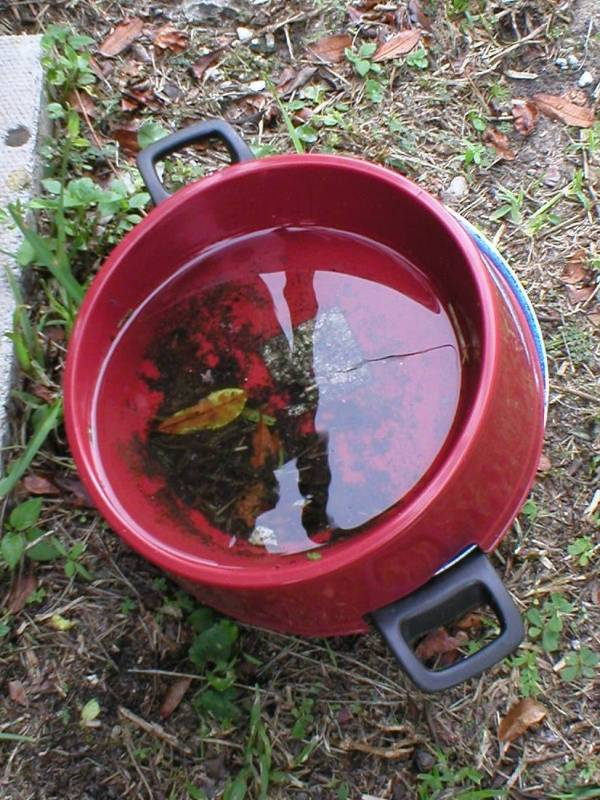container: (27, 95, 582, 714)
water: (83, 204, 487, 569)
